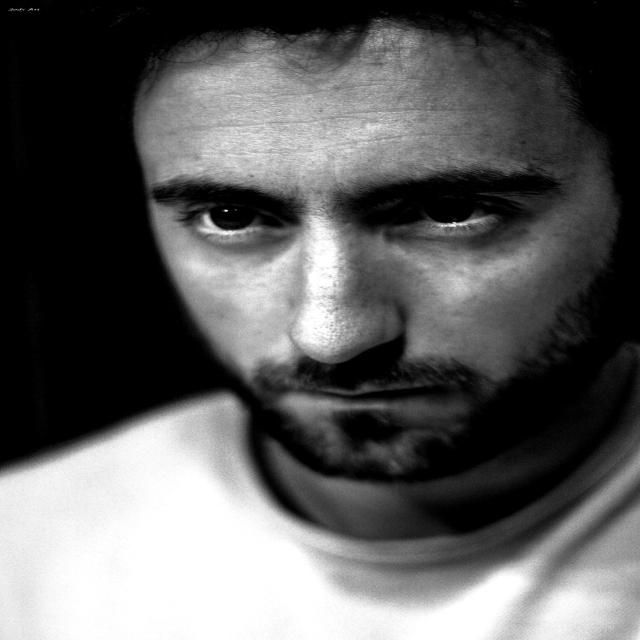no-glass: (173, 192, 514, 241)
